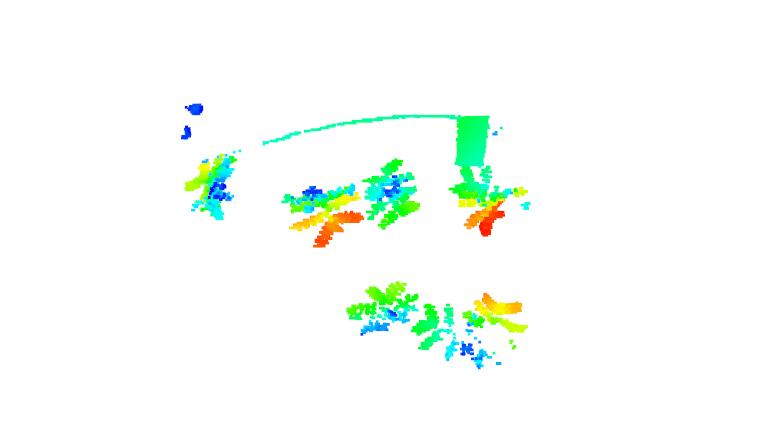chickpea: (416, 287, 528, 371), (452, 163, 535, 236), (284, 179, 364, 249), (360, 155, 423, 229), (345, 278, 418, 336), (185, 154, 239, 224)
